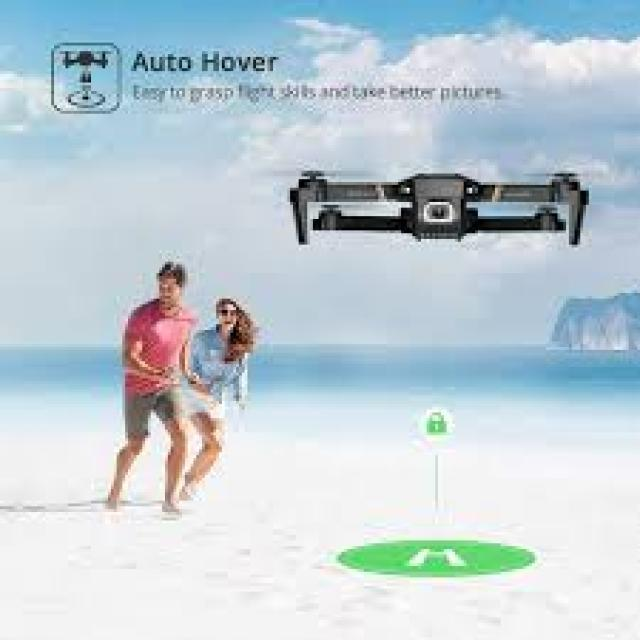drone: (278, 154, 615, 258)
